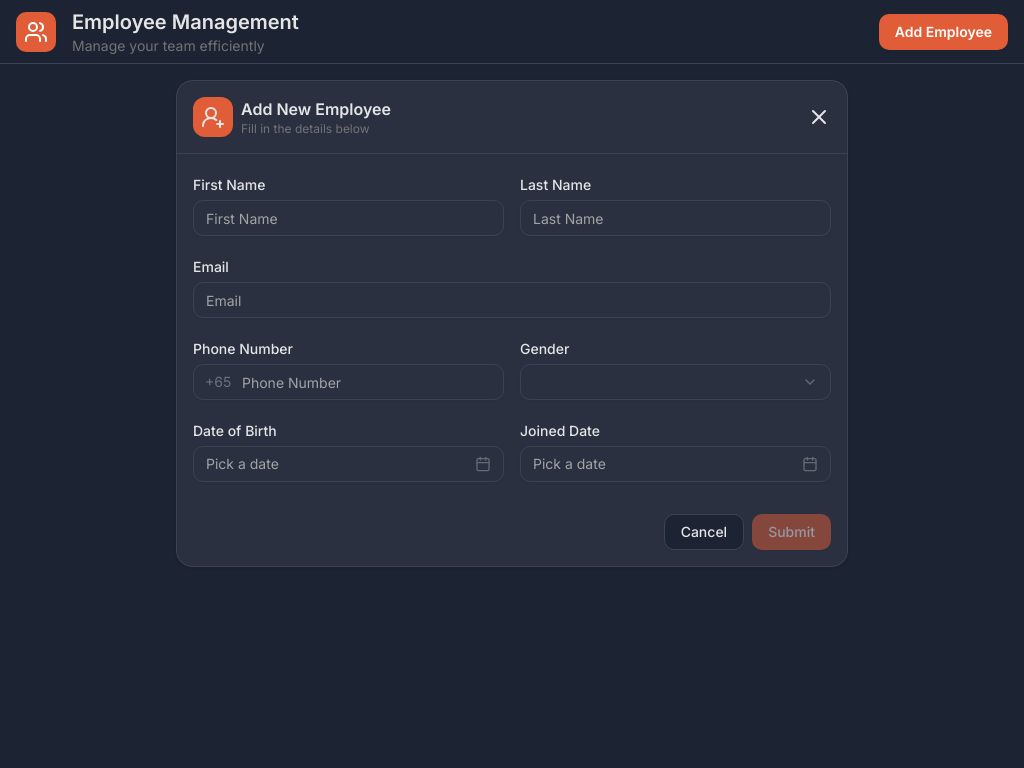
Form validation spec › Shows validation logic for date pickers
This screenshot has width=1024, height=768.
Type "Anthony" into the field with placeholder "First Name" at (349, 218), box top-left (193, 200), bottom-right (504, 236)
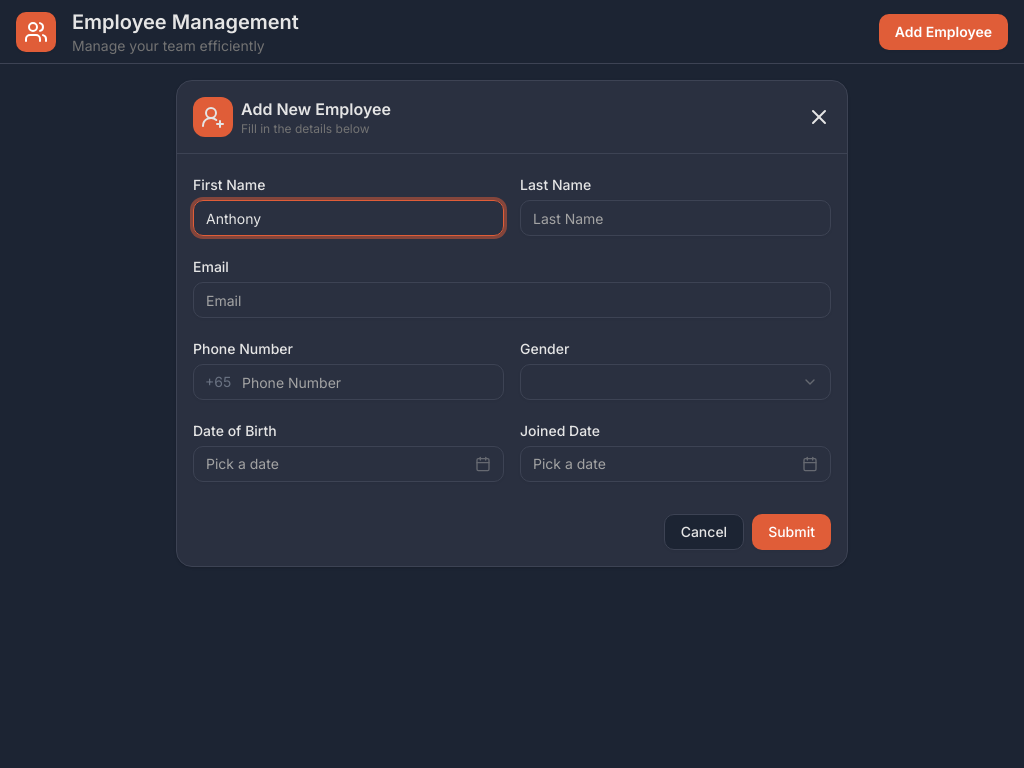
Click the button "Submit" at (792, 532), box top-left (752, 514), bottom-right (831, 550)
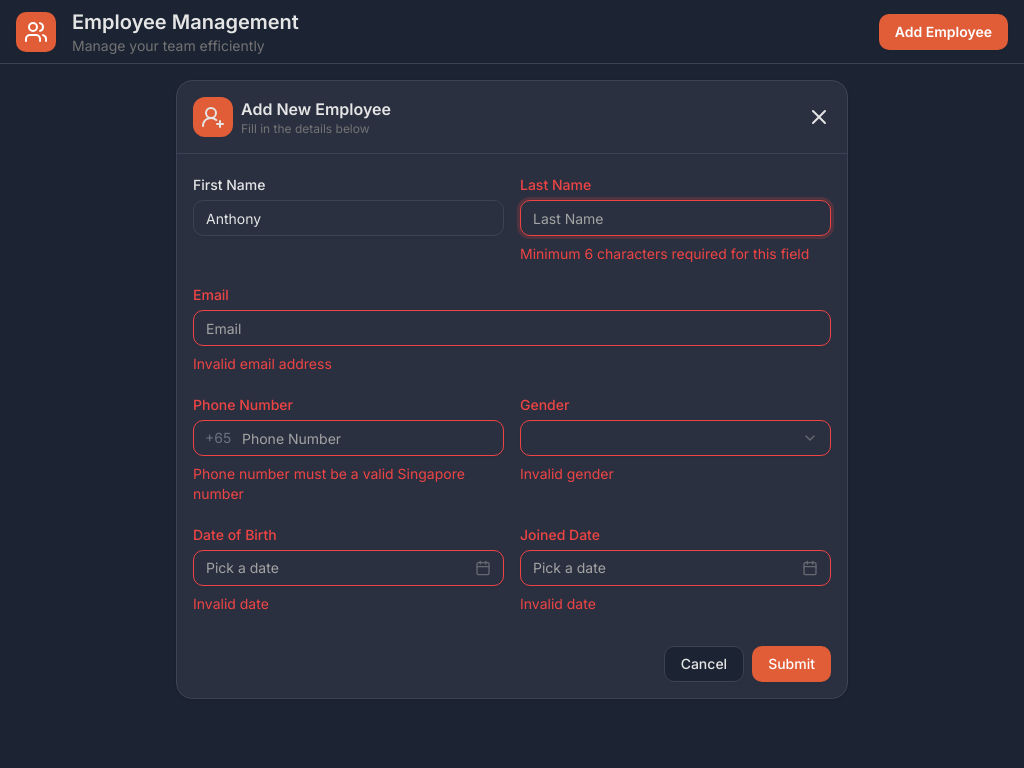
Result: the text "Invalid date" below "Date of Birth" is shown at top-left (193, 595), bottom-right (269, 612)
